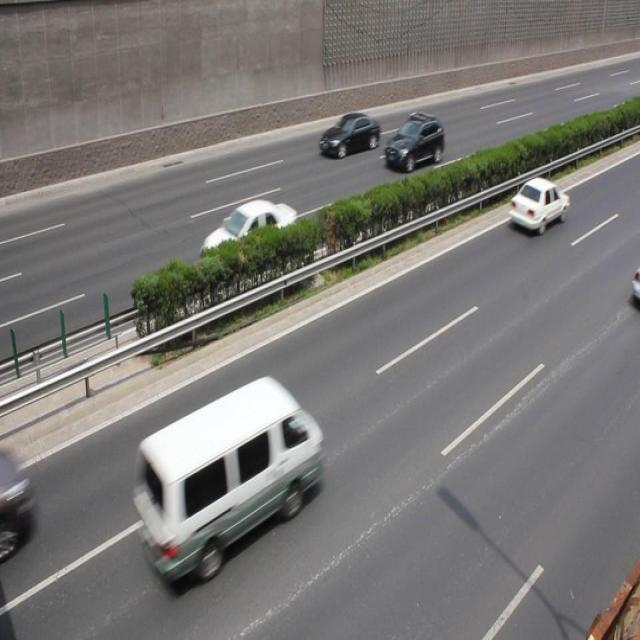car: (198, 199, 296, 279), (507, 176, 569, 235), (382, 112, 442, 172), (318, 111, 381, 159)
truck: (130, 374, 322, 579)
